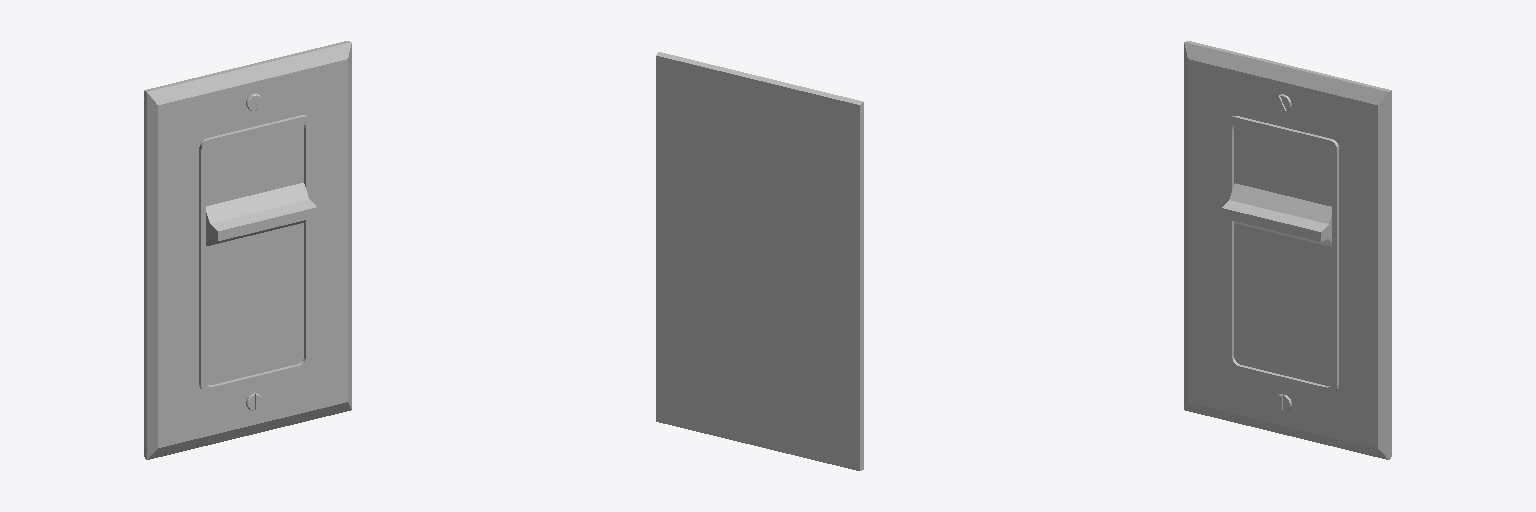
Rendered from switch.obj.
3 renders of one model, left to right at view 1: azimuth 30°, elevation 25°; view 2: azimuth 150°, elevation 25°; view 3: azimuth 330°, elevation 25°, orthographic.
Visible parts, largest first — view 1: Base_Base1_003, Base_slider_Base_slider_001, Slider_Slider_001; view 2: Base_Base1_003; view 3: Base_Base1_003, Base_slider_Base_slider_001, Slider_Slider_001.
Part boxes in pixels (x1,y1,x2,y2): Base_Base1_003: (144,41,351,459); Base_slider_Base_slider_001: (199,115,310,392); Slider_Slider_001: (206,183,316,245); Base_Base1_003: (656,52,863,470); Base_Base1_003: (1184,41,1391,459); Base_slider_Base_slider_001: (1227,116,1338,392); Slider_Slider_001: (1221,183,1331,246).
Bounding box in the file's own units: 4.6 × 7.89 × 0.7895.